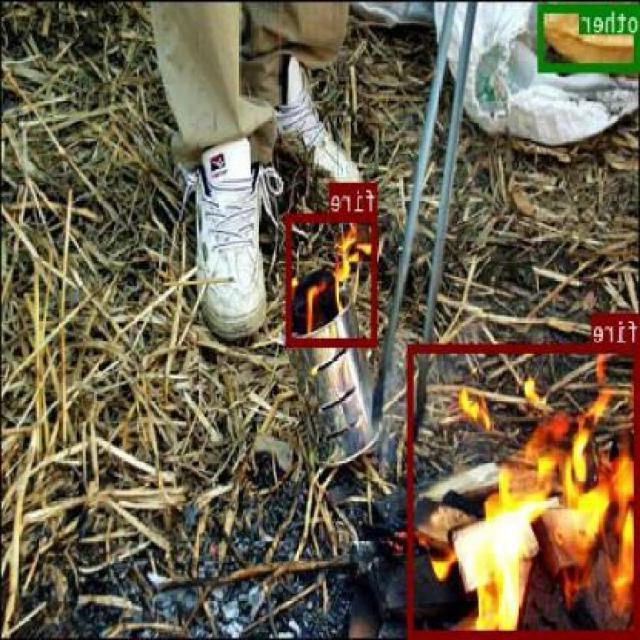Fire: (409, 342, 640, 636), (287, 213, 378, 344)
